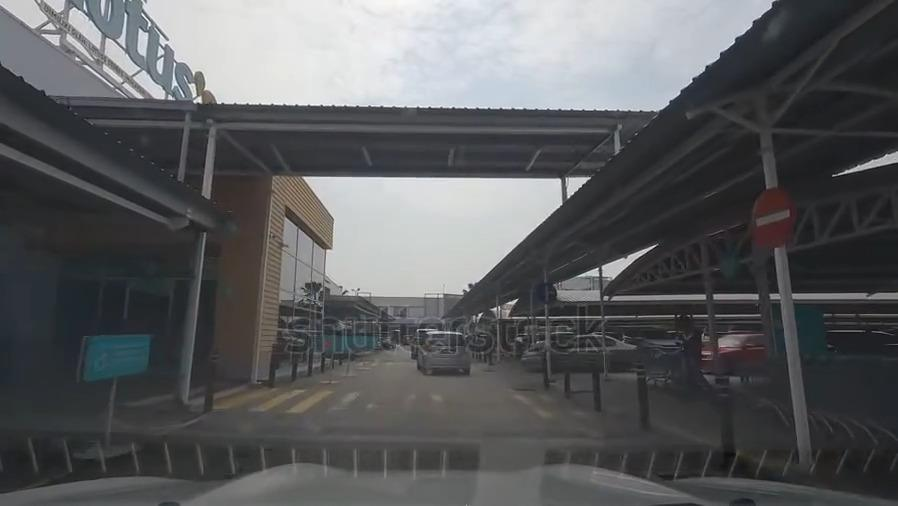car: (523, 333, 635, 372), (705, 330, 763, 371), (420, 331, 471, 377), (633, 328, 680, 352)
pedestrian: (195, 389, 637, 419)
person: (679, 320, 712, 398)
